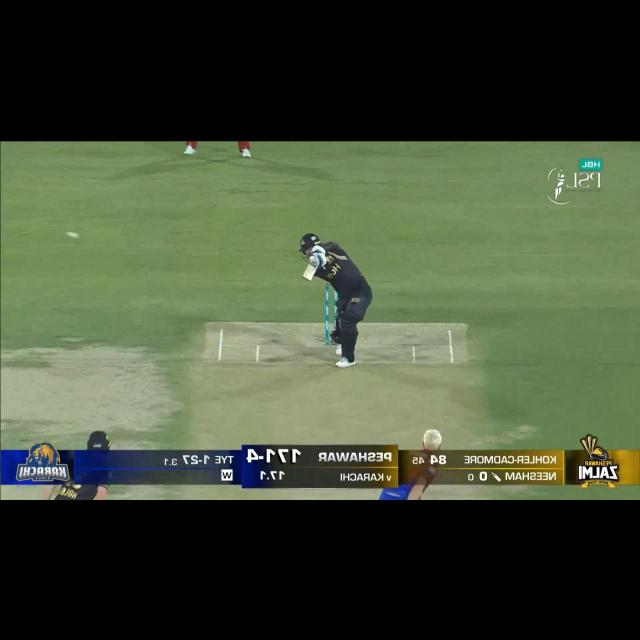bat: (302, 260, 319, 283)
toe: (302, 275, 312, 282)
